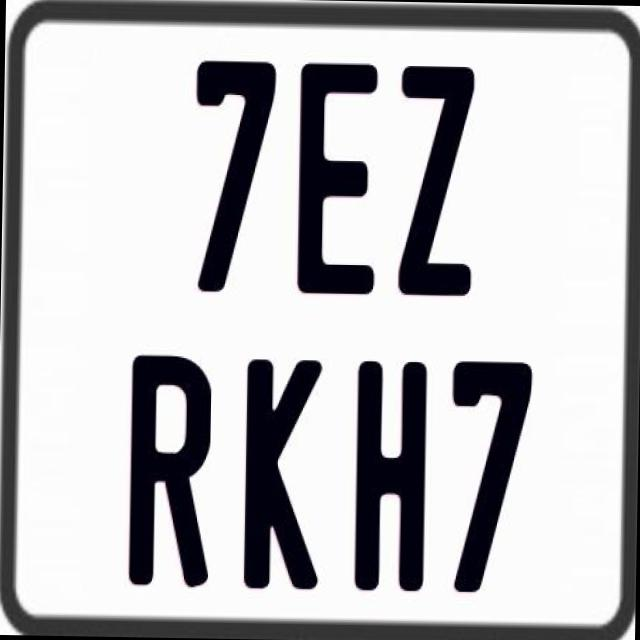7: (448, 358, 538, 598), (190, 61, 278, 302)
E: (296, 59, 386, 291)
H: (350, 357, 425, 595)
K: (244, 358, 324, 590)
R: (125, 356, 209, 588)
Z: (394, 62, 474, 296)
